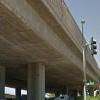Bridge: (9, 1, 82, 83)
